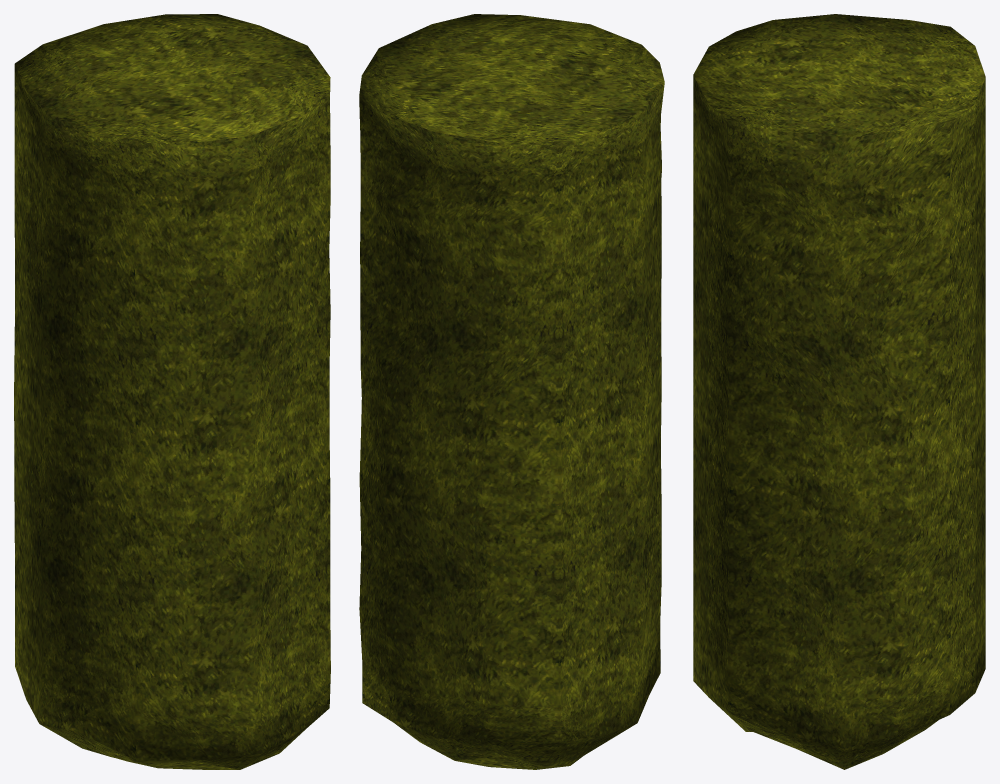
File: INST_TROLLHOLE_CLIFFPLATC.obj
3 views of the same model, side by side, from view 1: azimuth 30°, elevation 25°; view 2: azimuth 150°, elevation 25°; view 3: azimuth 270°, elevation 25° (orthographic). The views are drawn at different scales.
Parts seen in each view (by area): view 1: ffPlatC_Lod1_01; view 2: ffPlatC_Lod1_01; view 3: ffPlatC_Lod1_01.
Part boxes in pixels (<box>): ffPlatC_Lod1_01: <box>14,14,330,769</box>; ffPlatC_Lod1_01: <box>359,14,664,769</box>; ffPlatC_Lod1_01: <box>693,14,985,769</box>.
Size of the model in its own units: 303 by 750 by 299.
